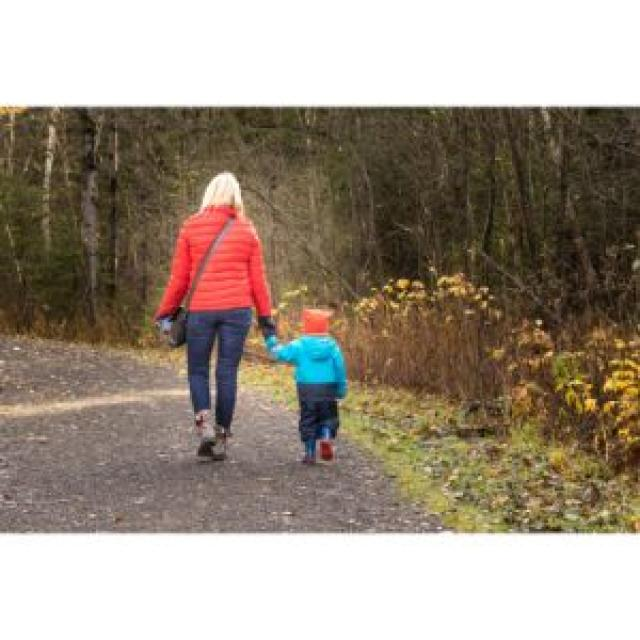nonfall: (144, 160, 265, 456), (278, 313, 367, 458)
